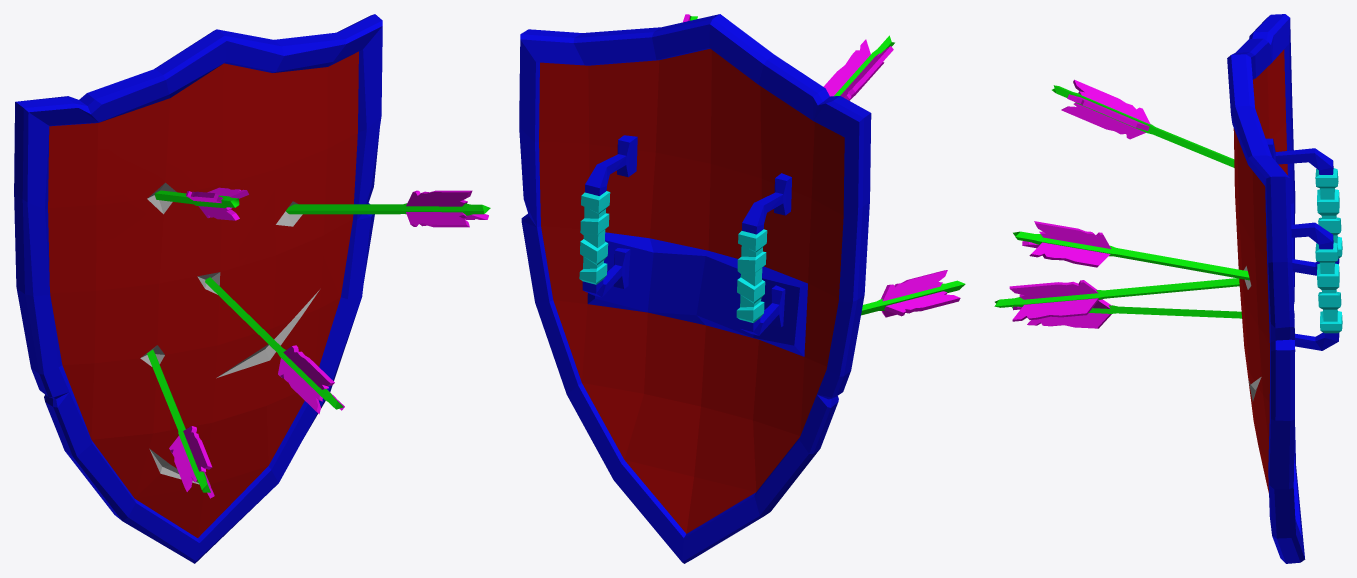
The model's file is Shield_Legendary_ArrowRiddled.fbx.
The picture shows the model from 3 angles, left to right: view 1: azimuth 30°, elevation 25°; view 2: azimuth 150°, elevation 25°; view 3: azimuth 270°, elevation 25°; orthographic projection. The views are drawn at different scales.
Parts seen in each view (by area): view 1: SM_Wep_Shield_16; view 2: SM_Wep_Shield_16; view 3: SM_Wep_Shield_16.
Boxes of the visible parts, left/top/right/bottom form: SM_Wep_Shield_16: left=14, top=14, right=490, bottom=563; SM_Wep_Shield_16: left=519, top=14, right=965, bottom=563; SM_Wep_Shield_16: left=994, top=14, right=1342, bottom=563.
Bounding box in the file's own units: 66.84 × 97.74 × 60.52.
